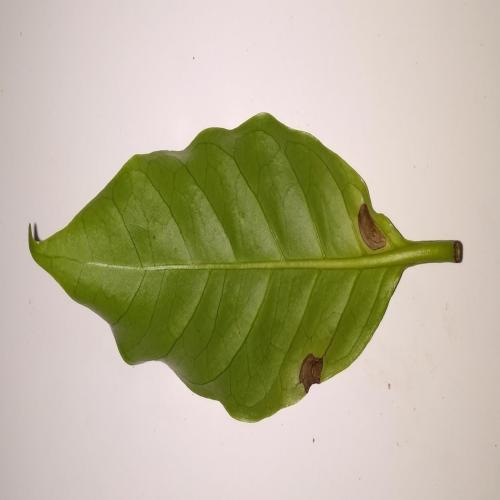leaf: (14, 101, 471, 431)
phoma: (355, 199, 392, 253), (298, 345, 330, 395)
